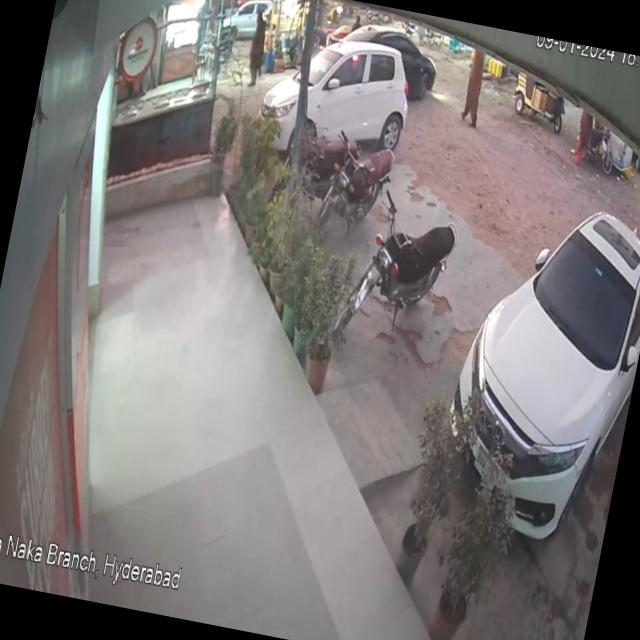Car: (424, 144, 640, 565), (235, 8, 425, 162)
Motorcycle: (331, 174, 475, 361), (320, 128, 404, 234)
